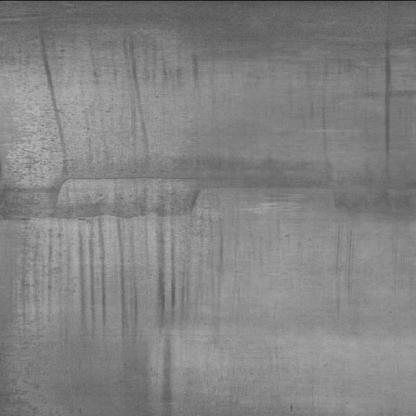waist_folding: (25, 51, 248, 411)
